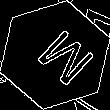M_SW: (20, 21, 90, 89)
